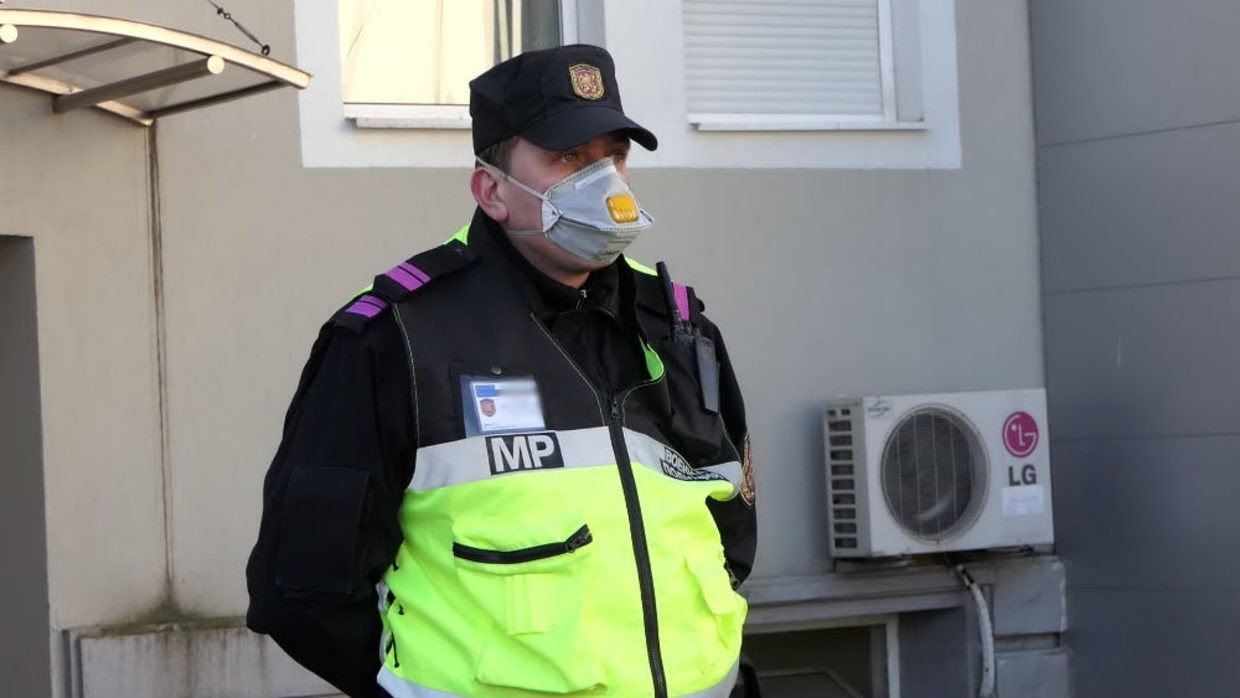face_with_mask: (459, 36, 662, 293)
